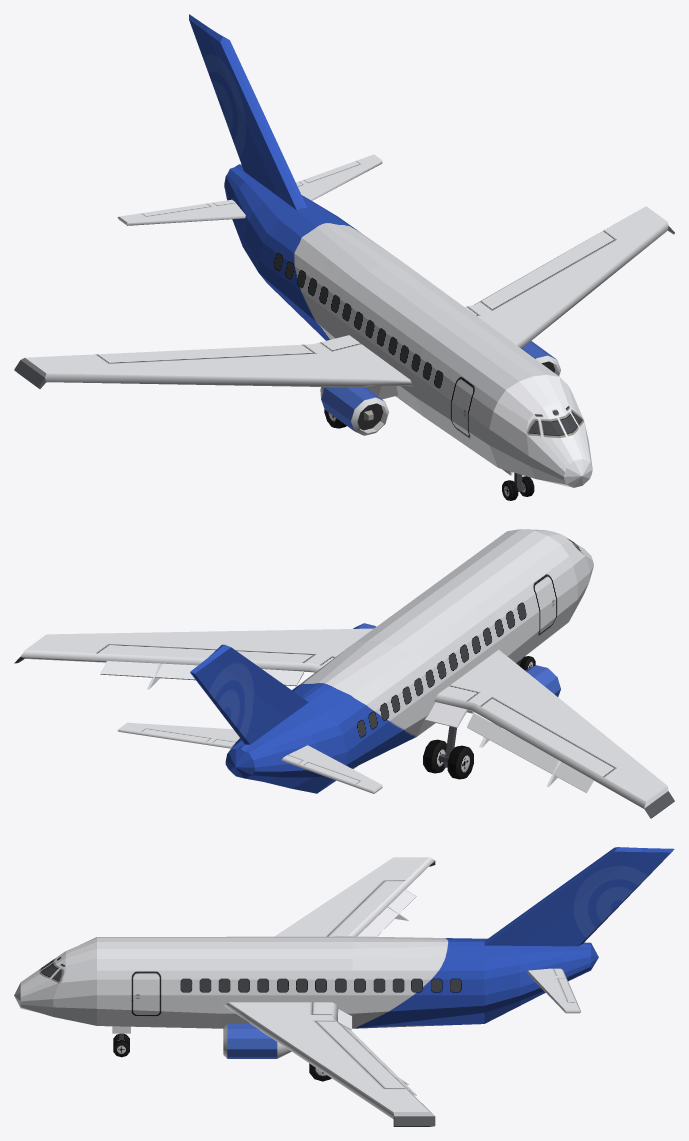
Rendered from regional-airport.glb.
The picture shows the model from 3 angles, top to bottom: view 1: azimuth 30°, elevation 25°; view 2: azimuth 150°, elevation 25°; view 3: azimuth 270°, elevation 25°; orthographic projection. The views are drawn at different scales.
Parts seen in each view (by area): view 1: Airplanes; view 2: Airplanes; view 3: Airplanes.
Part boxes in pixels (<box>): Airplanes: <box>14,14,674,500</box>; Airplanes: <box>14,529,674,818</box>; Airplanes: <box>14,847,674,1126</box>.
Size of the model in its own units: 1567 by 581 by 1676.
Materials: 1 (1 with a texture image).
